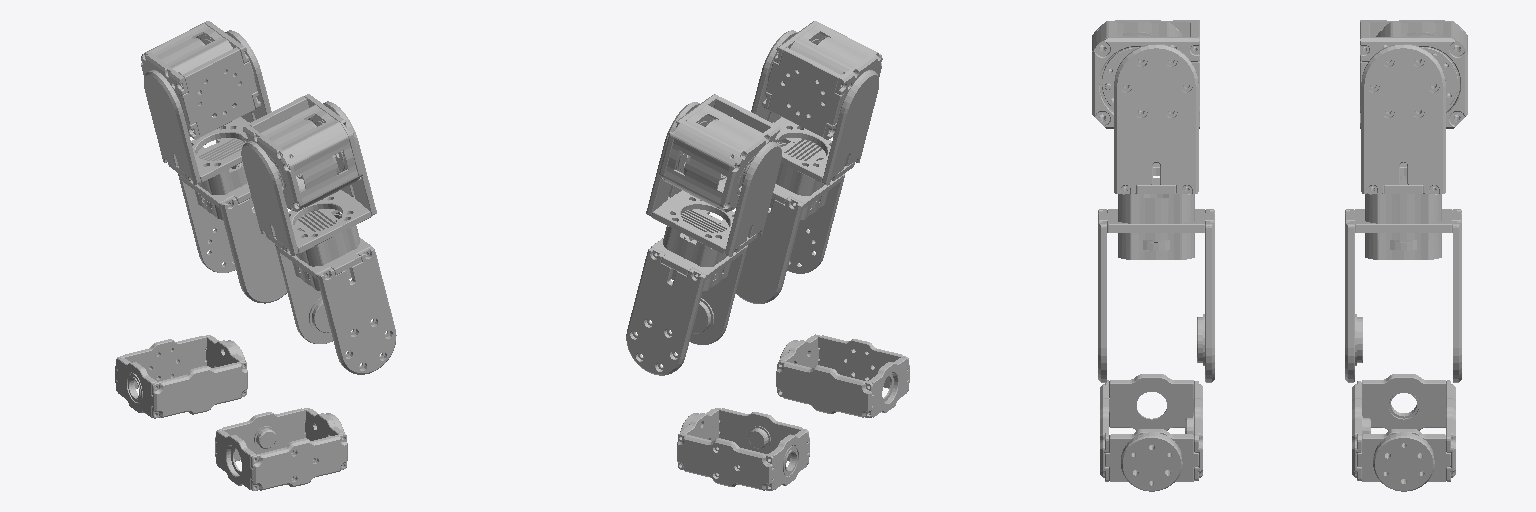
URDF robot description (clpai_12dof_0905):
<?xml version="1.0" encoding="utf-8"?>
<!--
This URDF was automatically created by SolidWorks to URDF Exporter! Originally created by [author] ([email redacted])
Commit Version: 1.6.0-4-g7f85cfe  Build Version: 1.6.7995.38578
For more information, please see http://wiki.ros.org/sw_urdf_exporter
-->
<robot name="clpai_12dof_0905">
	<mujoco>
		<compiler meshdir="../meshes/" balanceinertia="true" discardvisual="false" />
	</mujoco>
	<link name="base_link">
		<inertial>
			<origin xyz="0.00242324 -5.699E-05 0.04030078" rpy="0 0 0" />
			<mass value="2.1609" />
			<inertia ixx="0.00900968" ixy="-2.533E-05" ixz="-0.00013112" iyy="0.00978166" iyz="2E-07" izz="0.00416554" />
		</inertial>
		<visual>
			<origin xyz="0 0 0" rpy="0 0 0" />
			<geometry>
				<!-- <box size="0.1 0.1 0.1" /> -->
				<mesh filename="../meshes/baselink_1.STL" />
			</geometry>
			<material name="">
				<color rgba="1 1 1 1" />
			</material>
		</visual>
		<collision>
			<origin xyz="0 0 0.08" rpy="0 0 0" />
			<geometry>
				<box size="0.1 0.1 0.1" />
				<!-- <mesh filename="../meshes/base_link.STL" /> -->
			</geometry>
		</collision>
	</link>
	<link name="r_hip_pitch_link">
		<inertial>
			<origin xyz="0.00089428 -0.05527744 -0.00027276" rpy="0 0 0" />
			<mass value="0.36999771" />
			<inertia ixx="8.307E-05" ixy="2E-07" ixz="-5E-08" iyy="9.81E-05" iyz="-7E-07" izz="0.0001085" />
		</inertial>
		<visual>
			<origin xyz="0 0 0" rpy="0 0 0" />
			<geometry>
				<mesh filename="../meshes/r_hip_pitch_link.STL" />
			</geometry>
			<material name="">
				<color rgba="0.75294 0.75294 0.75294 1" />
			</material>
		</visual>
		<collision>
			<origin xyz="0 0 0" rpy="0 0 0" />
			<geometry>
				<box size="0.001 0.001 0.001" />
				<!-- <mesh filename="../meshes/r_hip_pitch_link.STL" /> -->
			</geometry>
		</collision>
	</link>
	<joint name="r_hip_pitch_joint" type="revolute">
		<origin xyz="-5.1979E-05 -0.0233 -0.033" rpy="0 -0.25 0" />
		<parent link="base_link" />
		<child link="r_hip_pitch_link" />
		<axis xyz="0 1 0" />
		<limit lower="-1.25" upper="1.75" effort="18" velocity="6" />
	</joint>
	<link name="r_hip_roll_link">
		<inertial>
			<origin xyz="-0.00180153 0.00025956 -0.0608194" rpy="0 0 0" />
			<mass value="0.38851552" />
			<inertia ixx="0.00027042" ixy="3.9E-07" ixz="3.312E-05" iyy="0.0003342" iyz="8.7E-07" izz="0.00013617" />
		</inertial>
		<visual>
			<origin xyz="0 0 0" rpy="0 0 0" />
			<geometry>
				<mesh filename="../meshes/r_hip_roll_link.STL" />
			</geometry>
			<material name="">
				<color rgba="0.75294 0.75294 0.75294 1" />
			</material>
		</visual>
		<collision>
			<origin xyz="0 0 0" rpy="0 0 0" />
			<geometry>
				<box size="0.001 0.001 0.001" />
				<!-- <mesh filename="../meshes/r_hip_roll_link.STL" /> -->
			</geometry>
		</collision>
	</link>
	<joint name="r_hip_roll_joint" type="revolute">
		<origin xyz="0.00025 -0.0568 0" rpy="0 0 0" />
		<parent link="r_hip_pitch_link" />
		<child link="r_hip_roll_link" />
		<axis xyz="1 0 0" />
		<limit lower="-0.5" upper="0.12" effort="18" velocity="6" />
	</joint>
	<link name="r_thigh_link">
		<inertial>
			<origin xyz="0 0.00116854 -0.04755896" rpy="0 0 0" />
			<mass value="0.11270879" />
			<inertia ixx="0.00012496" ixy="0" ixz="0" iyy="5.82E-05" iyz="3.19E-06" izz="9.438E-05" />
		</inertial>
		<visual>
			<origin xyz="0 0 0" rpy="0 0 0" />
			<geometry>
				<mesh filename="../meshes/r_thigh_link.STL" />
			</geometry>
			<material name="">
				<color rgba="0.75294 0.75294 0.75294 1" />
			</material>
		</visual>
		<collision>
			<origin xyz="0 0 0" rpy="0 0 0" />
			<geometry>
				<box size="0.001 0.001 0.001" />
				<!-- <mesh filename="../meshes/r_thigh_link.STL" /> -->
			</geometry>
		</collision>
	</link>
	<joint name="r_hip_yaw_joint" type="revolute">
		<origin xyz="-0.00025 0 -0.06925" rpy="0 0 0" />
		<parent link="r_hip_roll_link" />
		<child link="r_thigh_link" />
		<axis xyz="0 0 1" />
		<limit lower="-0.6" upper="0.3" effort="18" velocity="6" />
	</joint>
	<link name="r_calf_link">
		<inertial>
			<origin xyz="-0.00026627 -0.00116537 -0.06971210" rpy="0 0 0" />
			<mass value="0.81374212" />
			<inertia ixx="0.00352123" ixy="0.00000020" ixz="-0.00000072" iyy="0.00349946" iyz="-0.00002072" izz="0.00017468" />
		</inertial>
		<visual>
			<origin xyz="0 0 0" rpy="0 0 0" />
			<geometry>
				<mesh filename="../meshes/r_calf_link.STL" />
			</geometry>
			<material name="">
				<color rgba="0.75294 0.75294 0.75294 1" />
			</material>
		</visual>
		<collision>
			<origin xyz="0 0 0" rpy="0 0 0" />
			<geometry>
				<box size="0.001 0.001 0.001" />
				<!-- <mesh filename="../meshes/r_calf_link.STL" /> -->
			</geometry>
		</collision>
	</link>
	<joint name="r_knee_joint" type="revolute">
		<origin xyz="0 -0.0027 -0.07025" rpy="0 0.65 0" />
		<parent link="r_thigh_link" />
		<child link="r_calf_link" />
		<axis xyz="0 1 0" />
		<limit lower="-0.65" upper="1.65" effort="18" velocity="6" />
	</joint>
	<link name="r_ankle_pitch_link">
		<inertial>
			<origin xyz="0.00467932 0.00347699 0" rpy="0 0 0" />
			<mass value="0.1759244" />
			<inertia ixx="0.00011981" ixy="6.4E-07" ixz="0" iyy="0.00022179" iyz="0" izz="0.00030766" />
		</inertial>
		<visual>
			<origin xyz="0 0 0" rpy="0 0 0" />
			<geometry>
				<mesh filename="../meshes/r_ankle_pitch_link.STL" />
			</geometry>
			<material name="">
				<color rgba="0.75294 0.75294 0.75294 1" />
			</material>
		</visual>
		<collision>
			<origin xyz="0 0 0" rpy="0 0 0" />
			<geometry>
				<box size="0.001 0.001 0.001" />
				<!-- <mesh filename="../meshes/r_ankle_pitch_link.STL" /> -->
			</geometry>
		</collision>
	</link>
	<joint name="r_ankle_pitch_joint" type="revolute">
		<origin xyz="0 0 -0.14" rpy="0 -0.4 0" />
		<parent link="r_calf_link" />
		<child link="r_ankle_pitch_link" />
		<axis xyz="0 1 0" />
		<limit lower="-0.5" upper="1.3" effort="18" velocity="6" />
	</joint>
	<link name="r_ankle_roll_link">
		<inertial>
			<origin xyz="-0.02383679 0.00019256 -0.0144649" rpy="0 0 0" />
			<mass value="0.51868476" />
			<inertia ixx="0.0003308" ixy="-2.49E-06" ixz="-0.00018245" iyy="0.00113168" iyz="-1.06E-06" izz="0.00098381" />
		</inertial>
		<visual>
			<origin xyz="0 0 0" rpy="0 0 0" />
			<geometry>
				<mesh filename="../meshes/r_ankle_roll_link.STL" />
			</geometry>
			<material name="">
				<color rgba="0.75294 0.75294 0.75294 1" />
			</material>
		</visual>
		<collision>
			<origin xyz="0 0 0" rpy="0 0 0" />
			<geometry>
				<mesh filename="../meshes/r_ankle_roll_link.STL" />
			</geometry>
		</collision>
	</link>
	<joint name="r_ankle_roll_joint" type="revolute">
		<origin xyz="0.07525 0.0027 0" rpy="0 0 0" />
		<parent link="r_ankle_pitch_link" />
		<child link="r_ankle_roll_link" />
		<axis xyz="1 0 0" />
		<limit lower="-0.3" upper="0.8" effort="18" velocity="6" />
	</joint>
	<link name="l_hip_pitch_link">
		<inertial>
			<origin xyz="0.00086268 0.05441908 -0.00025859" rpy="0 0 0" />
			<mass value="0.38968624" />
			<inertia ixx="0.00010076" ixy="-4.2E-07" ixz="-4E-08" iyy="0.00010507" iyz="-3E-07" izz="0.00012834" />
		</inertial>
		<visual>
			<origin xyz="0 0 0" rpy="0 0 0" />
			<geometry>
				<mesh filename="../meshes/l_hip_pitch_link.STL" />
			</geometry>
			<material name="">
				<color rgba="0.75294 0.75294 0.75294 1" />
			</material>
		</visual>
		<collision>
			<origin xyz="0 0 0" rpy="0 0 0" />
			<geometry>
				<box size="0.001 0.001 0.001" />
				<!-- <mesh filename="../meshes/l_hip_pitch_link.STL" /> -->
			</geometry>
		</collision>
	</link>
	<joint name="l_hip_pitch_joint" type="revolute">
		<origin xyz="-5.1979E-05 0.0233 -0.033" rpy="0 -0.25 0" />
		<parent link="base_link" />
		<child link="l_hip_pitch_link" />
		<axis xyz="0 1 0" />
		<limit lower="-1.25" upper="1.75" effort="18" velocity="6" />
	</joint>
	<link name="l_hip_roll_link">
		<inertial>
			<origin xyz="-0.00207707 0.00026598 -0.0608194" rpy="0 0 0" />
			<mass value="0.38851552" />
			<inertia ixx="0.00027068" ixy="-7.6E-07" ixz="3.136E-05" iyy="0.0003332" iyz="8.8E-07" izz="0.00013543" />
		</inertial>
		<visual>
			<origin xyz="0 0 0" rpy="0 0 0" />
			<geometry>
				<mesh filename="../meshes/l_hip_roll_link.STL" />
			</geometry>
			<material name="">
				<color rgba="0.75294 0.75294 0.75294 1" />
			</material>
		</visual>
		<collision>
			<origin xyz="0 0 0" rpy="0 0 0" />
			<geometry>
				<box size="0.001 0.001 0.001" />
				<!-- <mesh filename="../meshes/l_hip_roll_link.STL" /> -->
			</geometry>
		</collision>
	</link>
	<joint name="l_hip_roll_joint" type="revolute">
		<origin xyz="0 0.0568 0" rpy="0 0 0" />
		<parent link="l_hip_pitch_link" />
		<child link="l_hip_roll_link" />
		<axis xyz="1 0 0" />
		<limit lower="-0.12" upper="0.5" effort="18" velocity="6" />
	</joint>
	<link name="l_thigh_link">
		<inertial>
			<origin xyz="0 -0.00115822 -0.04755896" rpy="0 0 0" />
			<mass value="0.11270879" />
			<inertia ixx="0.00012497" ixy="0" ixz="0" iyy="5.82E-05" iyz="-3.21E-06" izz="9.438E-05" />
		</inertial>
		<visual>
			<origin xyz="0 0 0" rpy="0 0 0" />
			<geometry>
				<mesh filename="../meshes/l_thigh_link.STL" />
			</geometry>
			<material name="">
				<color rgba="0.75294 0.75294 0.75294 1" />
			</material>
		</visual>
		<collision>
			<origin xyz="0 0 0" rpy="0 0 0" />
			<geometry>
				<box size="0.001 0.001 0.001" />
				<!-- <mesh filename="../meshes/l_thigh_link.STL" /> -->
			</geometry>
		</collision>
	</link>
	<joint name="l_hip_yaw_joint" type="revolute">
		<origin xyz="0 0 -0.06925" rpy="0 0 0" />
		<parent link="l_hip_roll_link" />
		<child link="l_thigh_link" />
		<axis xyz="0 0 1" />
		<limit lower="-0.3" upper="0.6" effort="18" velocity="6" />
	</joint>
	<link name="l_calf_link">
		<inertial>
			<origin xyz="0.00026627 0.00386537 -0.06971210" rpy="0 0 0" />
			<mass value="0.81374212" />
			<inertia ixx="0.00352123" ixy="0.00000020" ixz="0.00000072" iyy="0.00349946" iyz="0.00002072" izz="0.00017468" />
		</inertial>
		<visual>
			<origin xyz="0 0 0" rpy="0 0 0" />
			<geometry>
				<mesh filename="../meshes/l_calf_link.STL" />
			</geometry>
			<material name="">
				<color rgba="0.75294 0.75294 0.75294 1" />
			</material>
		</visual>
		<collision>
			<origin xyz="0 0 0" rpy="0 0 0" />
			<geometry>
				<box size="0.001 0.001 0.001" />
				<!-- <mesh filename="../meshes/l_calf_link.STL" /> -->
			</geometry>
		</collision>
	</link>
	<joint name="l_knee_joint" type="revolute">
		<origin xyz="0 0 -0.07025" rpy="0 0.65 0" />
		<parent link="l_thigh_link" />
		<child link="l_calf_link" />
		<axis xyz="0 1 0" />
		<limit lower="-0.65" upper="1.65" effort="18" velocity="6" />
	</joint>
	<link name="l_ankle_pitch_link">
		<inertial>
			<origin xyz="0.00467932 -0.00077699 0" rpy="0 0 0" />
			<mass value="0.1759244" />
			<inertia ixx="0.00011981" ixy="-6.4E-07" ixz="0" iyy="0.00022179" iyz="0" izz="0.00030766" />
		</inertial>
		<visual>
			<origin xyz="0 0 0" rpy="0 0 0" />
			<geometry>
				<mesh filename="../meshes/l_ankle_pitch_link.STL" />
			</geometry>
			<material name="">
				<color rgba="0.75294 0.75294 0.75294 1" />
			</material>
		</visual>
		<collision>
			<origin xyz="0 0 0" rpy="0 0 0" />
			<geometry>
				<box size="0.001 0.001 0.001" />
				<!-- <mesh filename="../meshes/l_ankle_pitch_link.STL" /> -->
			</geometry>
		</collision>
	</link>
	<joint name="l_ankle_pitch_joint" type="revolute">
		<origin xyz="0 0 -0.14" rpy="0 -0.4 0" />
		<parent link="l_calf_link" />
		<child link="l_ankle_pitch_link" />
		<axis xyz="0 1 0" />
		<limit lower="-0.5" upper="1.3" effort="18" velocity="6" />
	</joint>
	<link name="l_ankle_roll_link">
		<inertial>
			<origin xyz="-0.02383679 0.00019256 -0.0144649" rpy="0 0 0" />
			<mass value="0.51868476" />
			<inertia ixx="0.0003308" ixy="-2.49E-06" ixz="-0.00018245" iyy="0.00113168" iyz="-1.06E-06" izz="0.00098381" />
		</inertial>
		<visual>
			<origin xyz="0 0 0" rpy="0 0 0" />
			<geometry>
				<mesh filename="../meshes/l_ankle_roll_link.STL" />
			</geometry>
			<material name="">
				<color rgba="0.75294 0.75294 0.75294 1" />
			</material>
		</visual>
		<collision>
			<origin xyz="0 0 0" rpy="0 0 0" />
			<geometry>
				<mesh filename="../meshes/l_ankle_roll_link.STL" />
			</geometry>
		</collision>
	</link>
	<joint name="l_ankle_roll_joint" type="revolute">
		<origin xyz="0.07525 0 0" rpy="0 0 0" />
		<parent link="l_ankle_pitch_link" />
		<child link="l_ankle_roll_link" />
		<axis xyz="1 0 0" />
		<limit lower="-0.8" upper="0.3" effort="18" velocity="6" />
	</joint>
</robot>

--- Render facts (derived) ---
Views: 3 orthographic renders of the robot side by side, from view 1: azimuth 30°, elevation 25°; view 2: azimuth 150°, elevation 25°; view 3: azimuth 270°, elevation 25°.
Model clpai_12dof_0905 with 13 links and 12 joints (12 revolute), rooted at base_link, posed every joint at zero.
Visible links, largest first — view 1: r_thigh_link, r_hip_roll_link, l_ankle_pitch_link, r_ankle_pitch_link, r_hip_pitch_link, l_hip_pitch_link, l_hip_roll_link, l_thigh_link; view 2: l_thigh_link, l_ankle_pitch_link, r_ankle_pitch_link, l_hip_roll_link, l_hip_pitch_link, r_hip_pitch_link, r_hip_roll_link, r_thigh_link; view 3: l_hip_roll_link, r_hip_roll_link, l_ankle_pitch_link, r_ankle_pitch_link, r_hip_pitch_link, l_hip_pitch_link, l_thigh_link, r_thigh_link.
Boxes of the visible links, <box> form: r_thigh_link: <box>275,238,396,374</box>; r_hip_roll_link: <box>241,101,376,290</box>; l_ankle_pitch_link: <box>115,335,247,418</box>; r_ankle_pitch_link: <box>215,408,347,490</box>; r_hip_pitch_link: <box>243,94,363,211</box>; l_hip_pitch_link: <box>141,21,260,139</box>; l_hip_roll_link: <box>144,30,271,219</box>; l_thigh_link: <box>178,162,286,303</box>; l_thigh_link: <box>626,233,747,375</box>; l_ankle_pitch_link: <box>677,408,809,490</box>; r_ankle_pitch_link: <box>776,334,909,417</box>; l_hip_roll_link: <box>646,102,781,290</box>; l_hip_pitch_link: <box>659,94,780,212</box>; r_hip_pitch_link: <box>762,21,882,139</box>; r_hip_roll_link: <box>751,30,878,219</box>; r_thigh_link: <box>736,174,844,303</box>; l_hip_roll_link: <box>1361,44,1445,259</box>; r_hip_roll_link: <box>1114,44,1198,259</box>; l_ankle_pitch_link: <box>1352,374,1455,491</box>; r_ankle_pitch_link: <box>1100,374,1202,491</box>; r_hip_pitch_link: <box>1092,20,1199,128</box>; l_hip_pitch_link: <box>1360,20,1467,128</box>; l_thigh_link: <box>1345,209,1461,382</box>; r_thigh_link: <box>1098,209,1214,382</box>.
Size in the robot's own frame: 0.1363 by 0.2441 by 0.3209 metres.
Meshes: 13 distinct files referenced, 8 mesh visuals loaded (8 binary STL); not drawn: 5 (reference not matched to a file when rendering).
